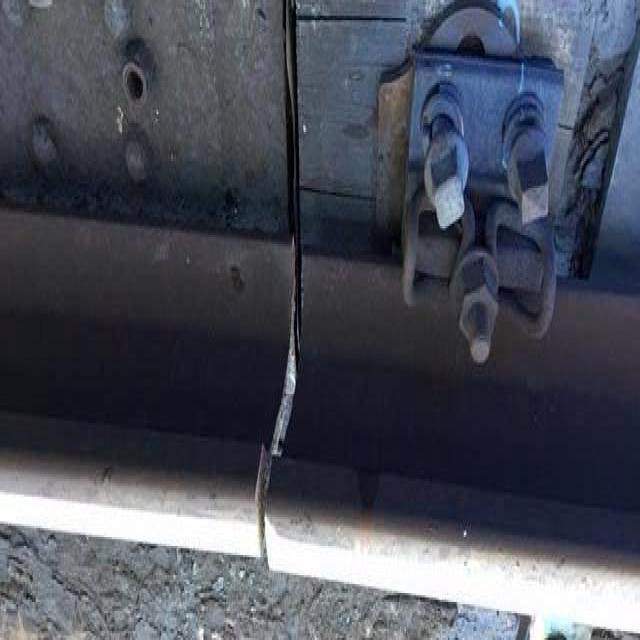Good Fasteners: (406, 8, 566, 388)
